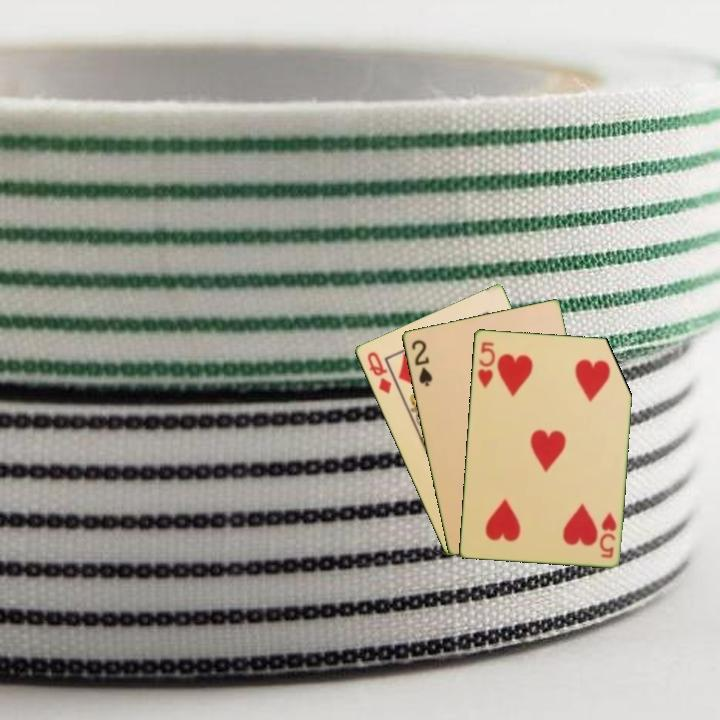2s: (408, 336, 435, 389)
5h: (474, 338, 498, 391), (596, 508, 619, 560)
Qd: (363, 348, 394, 397)
